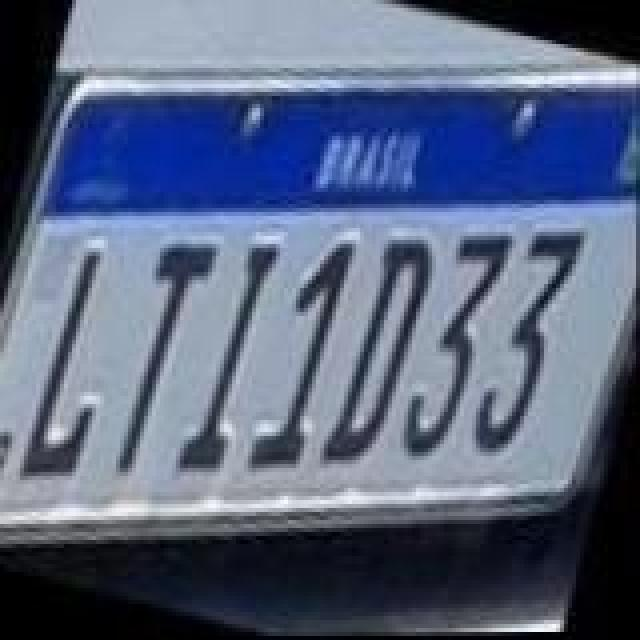1: (244, 226, 360, 486)
3: (466, 216, 586, 468), (394, 220, 514, 468)
D: (324, 232, 440, 476)
I: (178, 234, 282, 478)
L: (18, 244, 138, 500)
T: (104, 230, 220, 482)
